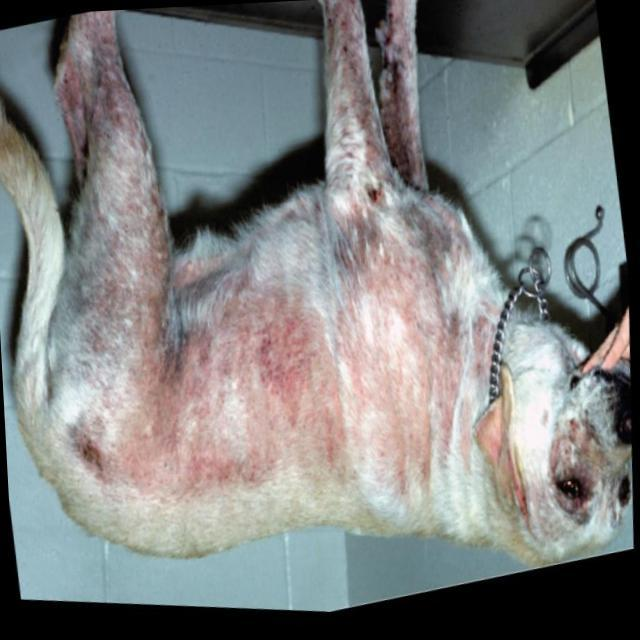allergic dermatitis: (337, 209, 475, 507), (127, 295, 339, 483)
